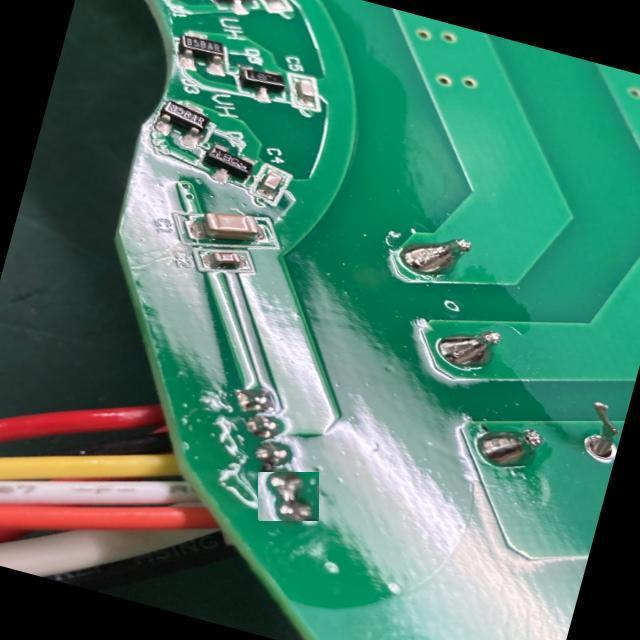damged: (259, 473, 318, 520)
